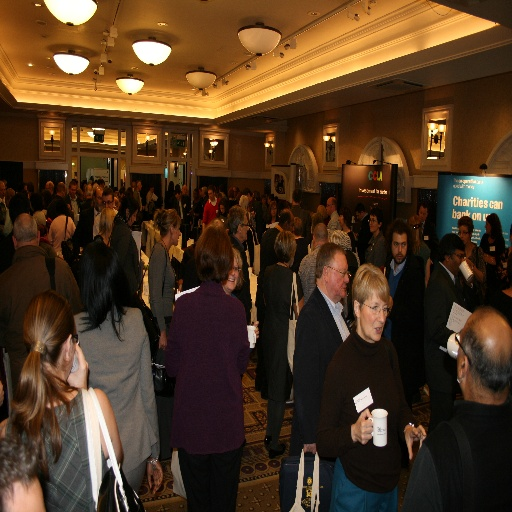hand: (67, 341, 89, 392), (403, 424, 428, 463), (146, 455, 164, 498), (353, 407, 372, 445), (156, 334, 166, 354), (252, 319, 260, 340), (301, 444, 315, 456), (462, 256, 471, 269)
